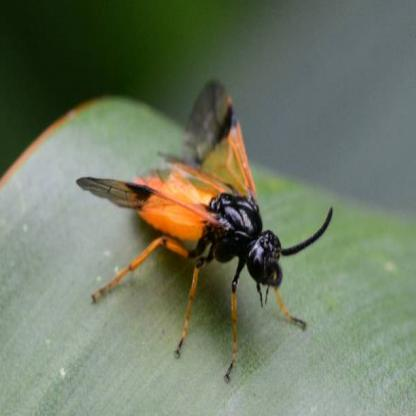sawfly: (78, 73, 337, 386)
